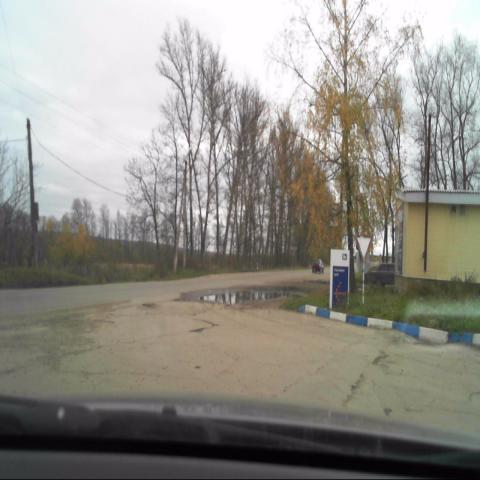2_4: (356, 234, 372, 260)
